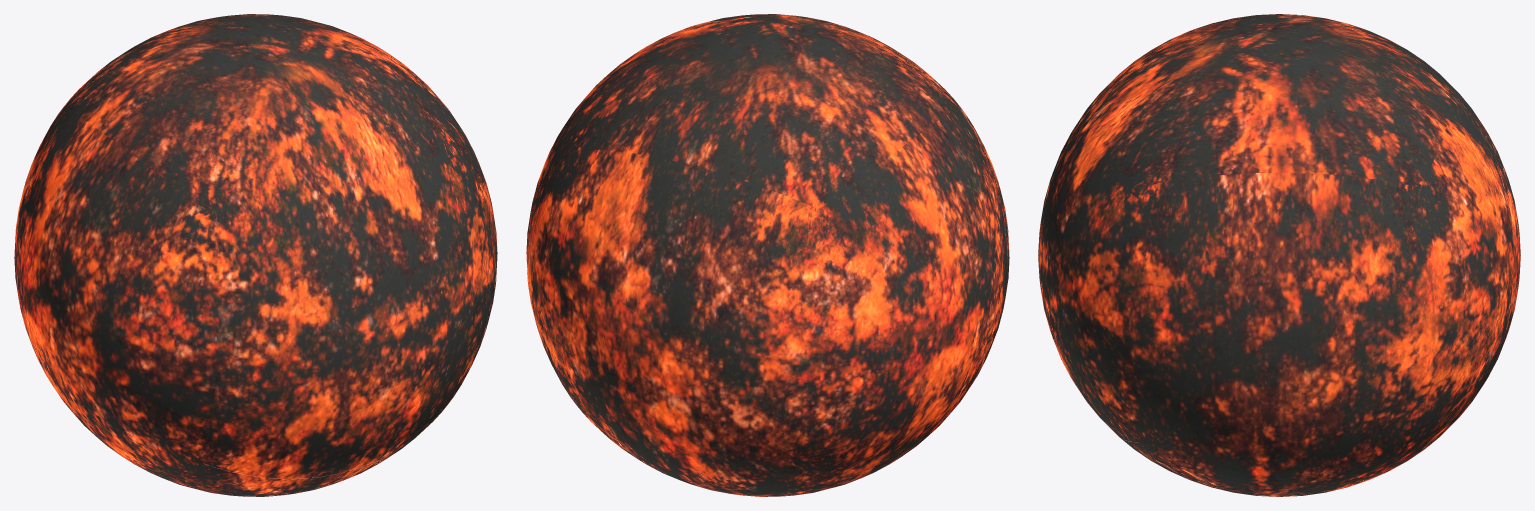
File: 55_cancri_e637.glb
The picture shows the model from 3 angles, left to right: view 1: azimuth 30°, elevation 25°; view 2: azimuth 150°, elevation 25°; view 3: azimuth 270°, elevation 25°; orthographic projection.
Parts seen in each view (by area): view 1: Cube_001; view 2: Cube_001; view 3: Cube_001.
Boxes of the visible parts, x1,y1,x2,y2 form: Cube_001: (14, 14, 497, 496); Cube_001: (526, 14, 1009, 496); Cube_001: (1038, 14, 1520, 496).
Bounding box in the file's own units: 3 × 3 × 3.
Materials: 1 (1 with a texture image).
